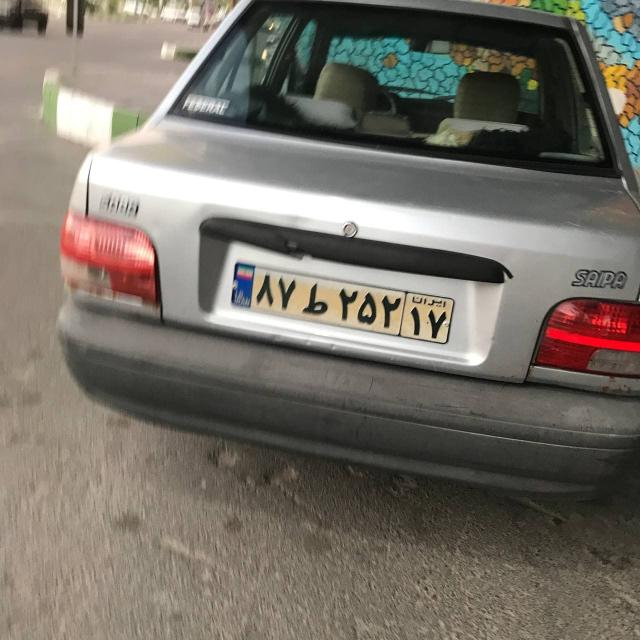Plates: (228, 263, 454, 344)
